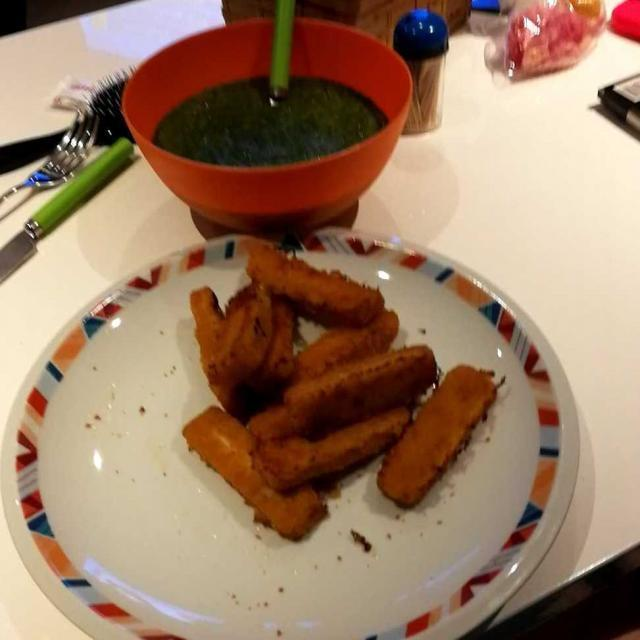fish: (188, 247, 492, 532)
spinach: (156, 76, 382, 164)
